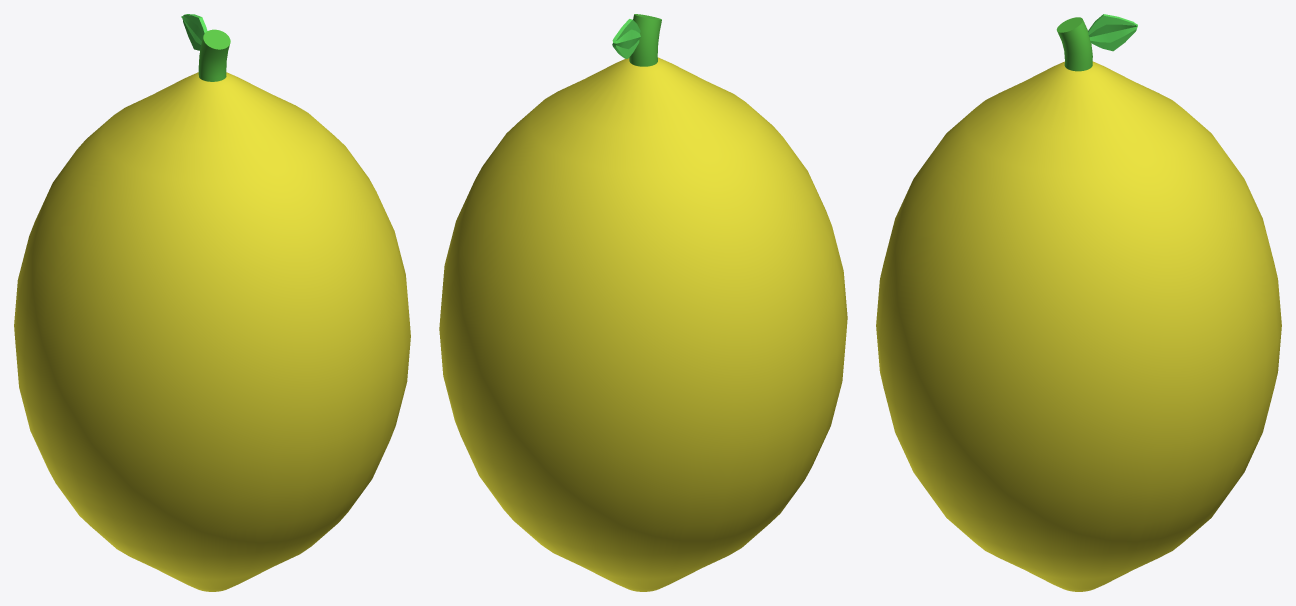
The model's file is LemonSmooth.fbx.
3 renders of one model, left to right at view 1: azimuth 30°, elevation 25°; view 2: azimuth 150°, elevation 25°; view 3: azimuth 270°, elevation 25°, orthographic. The views are drawn at different scales.
Visible parts, largest first — view 1: Sphere, Cylinder, Cube; view 2: Sphere, Cylinder, Cube; view 3: Sphere, Cylinder, Cube.
Boxes of the visible parts, <box> form: Sphere: <box>14,72,410,591</box>; Cylinder: <box>198,29,230,81</box>; Cube: <box>181,14,207,50</box>; Sphere: <box>439,57,847,591</box>; Cylinder: <box>629,14,661,66</box>; Cube: <box>612,19,640,58</box>; Sphere: <box>876,61,1281,591</box>; Cylinder: <box>1056,17,1092,71</box>; Cube: <box>1088,14,1137,51</box>.
Size of the model in its own units: 200 by 314 by 200.
